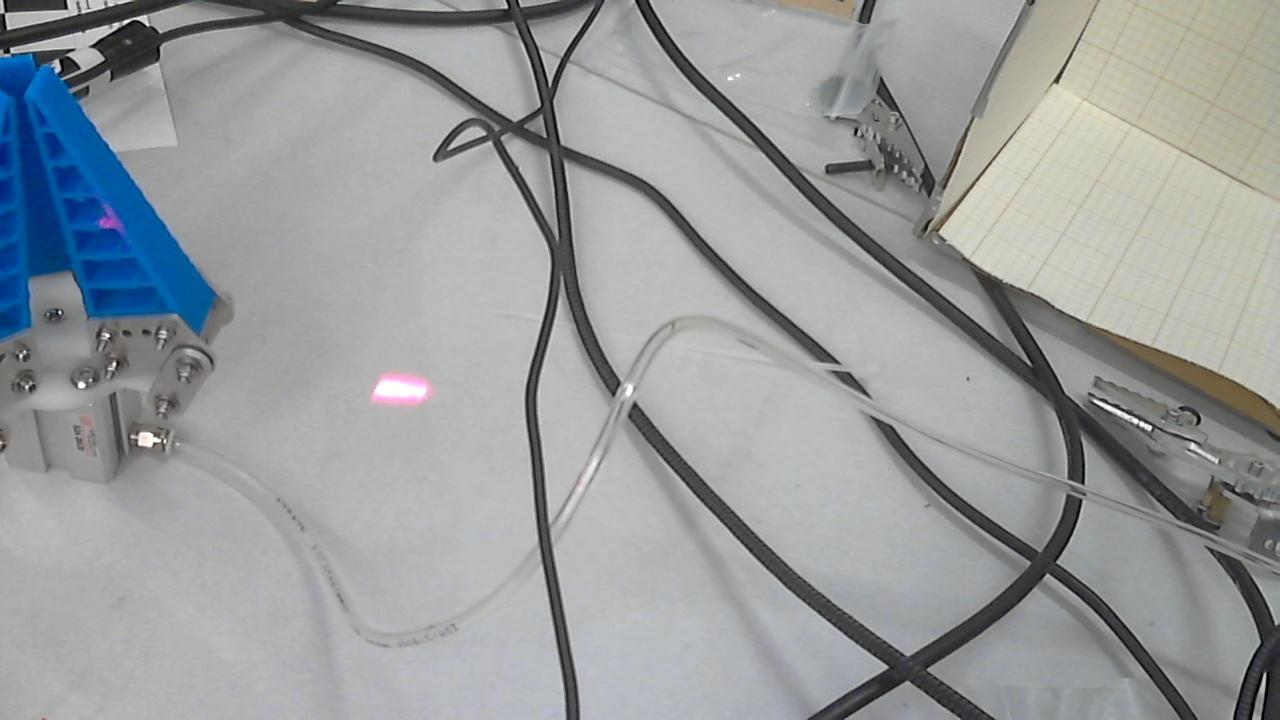Object robotic gripper finger assembly - Material plastic - Color blue - Pdfname: (78, 192, 142, 243)
